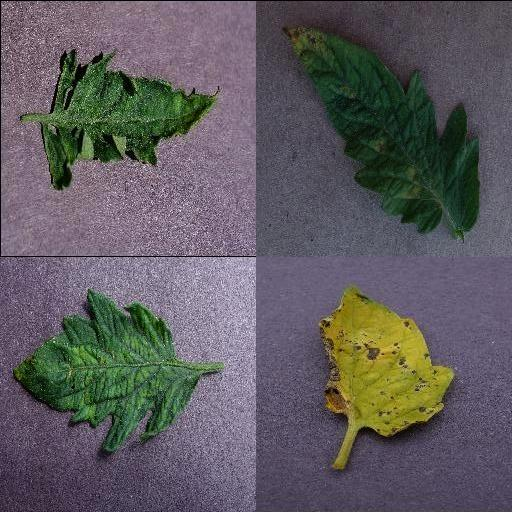Leaf Mold: (280, 21, 482, 235)
Mosaic Virus: (12, 287, 199, 451), (38, 47, 222, 193)
Septoria: (319, 283, 457, 437)
